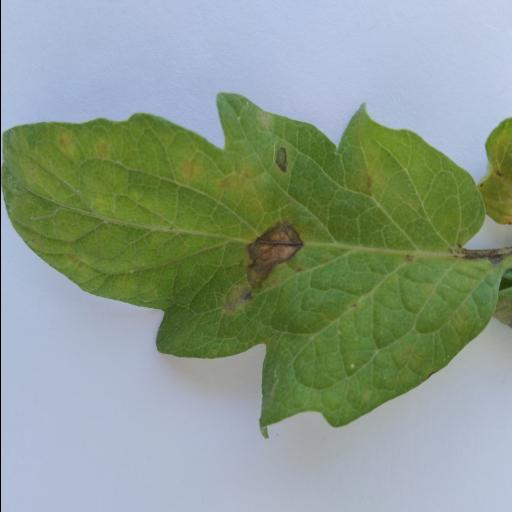disease_tomato: (0, 93, 511, 429)
